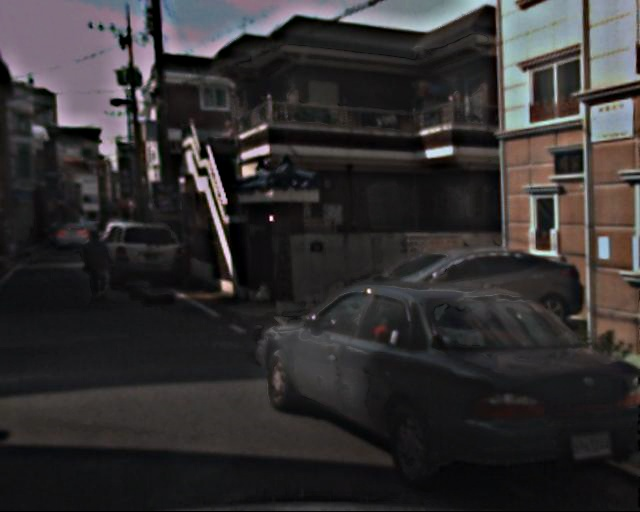person: (83, 228, 114, 304)
